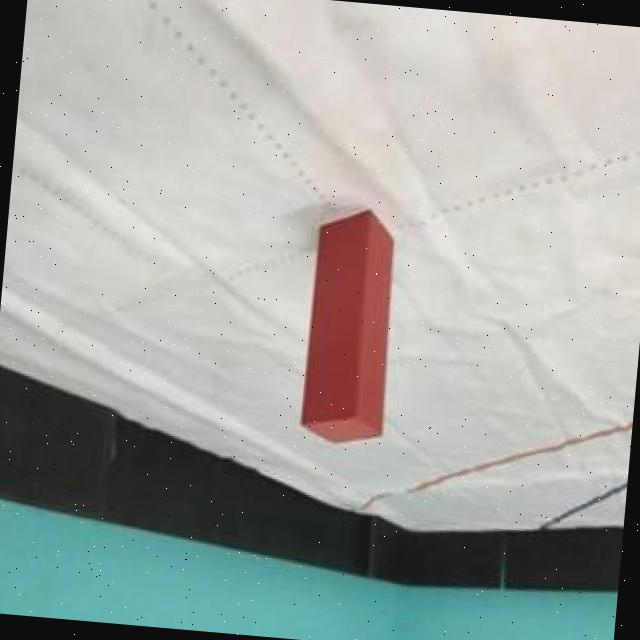redbox: (297, 202, 404, 448)
